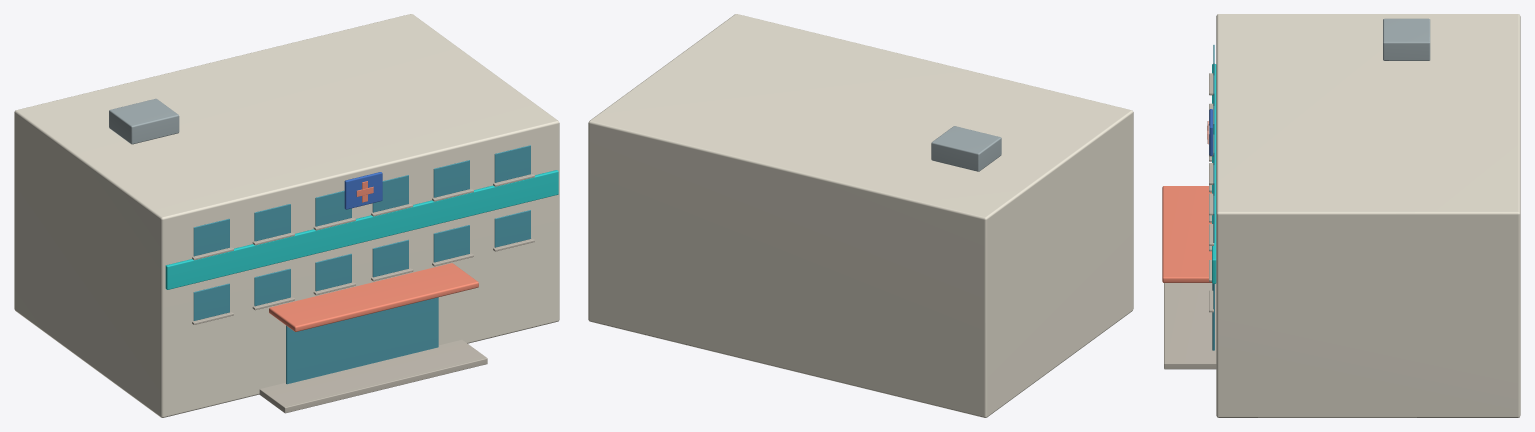
Rendered from HL_Building_Clinic.fbx.
3 views of the same model, side by side, from view 1: azimuth 30°, elevation 25°; view 2: azimuth 150°, elevation 25°; view 3: azimuth 270°, elevation 25° (orthographic). The views are drawn at different scales.
Visible parts, largest first — view 1: Clinic | warm medical block, Clinic | turquoise facade ribbon, Clinic | ground entry glass, Clinic | porch pad, Clinic | emergency red canopy, Clinic | rooftop HVAC, Clinic | patient window.002, Clinic | patient window.010, Clinic | patient window.011, Clinic | patient window, Clinic | patient window.001, Clinic | patient window.005 (+7 smaller); view 2: Clinic | warm medical block, Clinic | rooftop HVAC; view 3: Clinic | warm medical block, Clinic | emergency red canopy, Clinic | porch pad, Clinic | rooftop HVAC, Clinic | turquoise facade ribbon.
Boxes of the visible parts, bbox=[...] form: Clinic | warm medical block: bbox=[14, 14, 559, 417]; Clinic | turquoise facade ribbon: bbox=[165, 170, 558, 289]; Clinic | ground entry glass: bbox=[286, 297, 438, 384]; Clinic | porch pad: bbox=[259, 340, 487, 413]; Clinic | emergency red canopy: bbox=[269, 263, 478, 331]; Clinic | rooftop HVAC: bbox=[109, 98, 179, 144]; Clinic | patient window.002: bbox=[315, 253, 351, 291]; Clinic | patient window.010: bbox=[433, 160, 469, 197]; Clinic | patient window.011: bbox=[494, 145, 530, 182]; Clinic | patient window: bbox=[193, 283, 229, 320]; Clinic | patient window.001: bbox=[254, 268, 290, 306]; Clinic | patient window.005: bbox=[494, 210, 530, 247]; Clinic | warm medical block: bbox=[588, 14, 1133, 417]; Clinic | rooftop HVAC: bbox=[931, 126, 1001, 171]; Clinic | warm medical block: bbox=[1216, 14, 1520, 417]; Clinic | emergency red canopy: bbox=[1162, 186, 1211, 282]; Clinic | porch pad: bbox=[1164, 283, 1216, 369]; Clinic | rooftop HVAC: bbox=[1383, 18, 1430, 60]; Clinic | turquoise facade ribbon: bbox=[1212, 64, 1216, 283].
Size of the model in its own units: 1740 by 921 by 1319.
